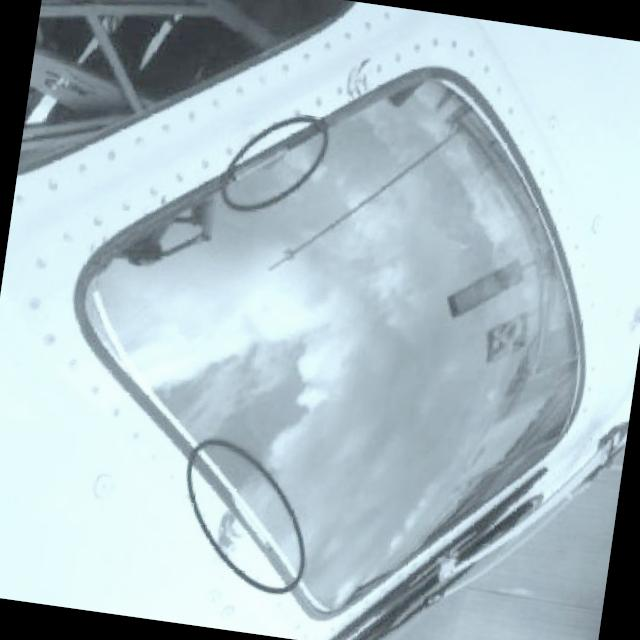crack: (344, 54, 373, 104)
